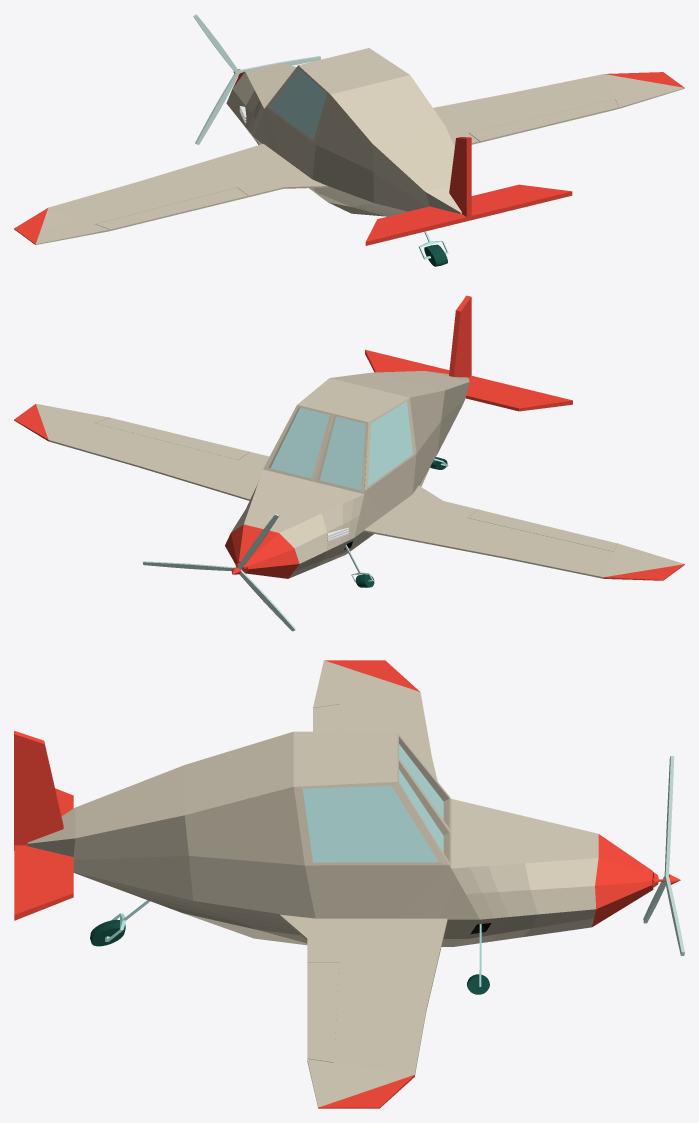
File: airplane2.glb
The picture shows the model from 3 angles, top to bottom: view 1: azimuth 30°, elevation 25°; view 2: azimuth 150°, elevation 25°; view 3: azimuth 270°, elevation 25°; orthographic projection. The views are drawn at different scales.
Visible parts, largest first — view 1: Body, LeftWing, RightWing, BackBottomWing, BackWing, Cube.003, Cube.001; view 2: Body, LeftWing, RightWing, BackBottomWing, BackWing; view 3: Body, RightWing, LeftWing, BackWing, BackBottomWing.
Boxes of the visible parts, bbox=[...] form: Body: bbox=[226, 48, 461, 216]; LeftWing: bbox=[14, 144, 328, 244]; RightWing: bbox=[433, 72, 684, 146]; BackBottomWing: bbox=[365, 184, 572, 245]; BackWing: bbox=[449, 137, 471, 220]; Cube.003: bbox=[195, 72, 239, 144]; Cube.001: bbox=[193, 14, 239, 73]; Body: bbox=[225, 371, 469, 578]; LeftWing: bbox=[363, 485, 684, 580]; RightWing: bbox=[14, 404, 269, 500]; BackBottomWing: bbox=[365, 349, 572, 411]; BackWing: bbox=[449, 295, 471, 377]; Body: bbox=[27, 731, 653, 946]; RightWing: bbox=[279, 914, 447, 1108]; LeftWing: bbox=[313, 660, 437, 780]; BackWing: bbox=[14, 731, 63, 850]; BackBottomWing: bbox=[14, 788, 73, 920].
Bounding box in the file's own units: 6.07 × 1.42 × 3.85.
